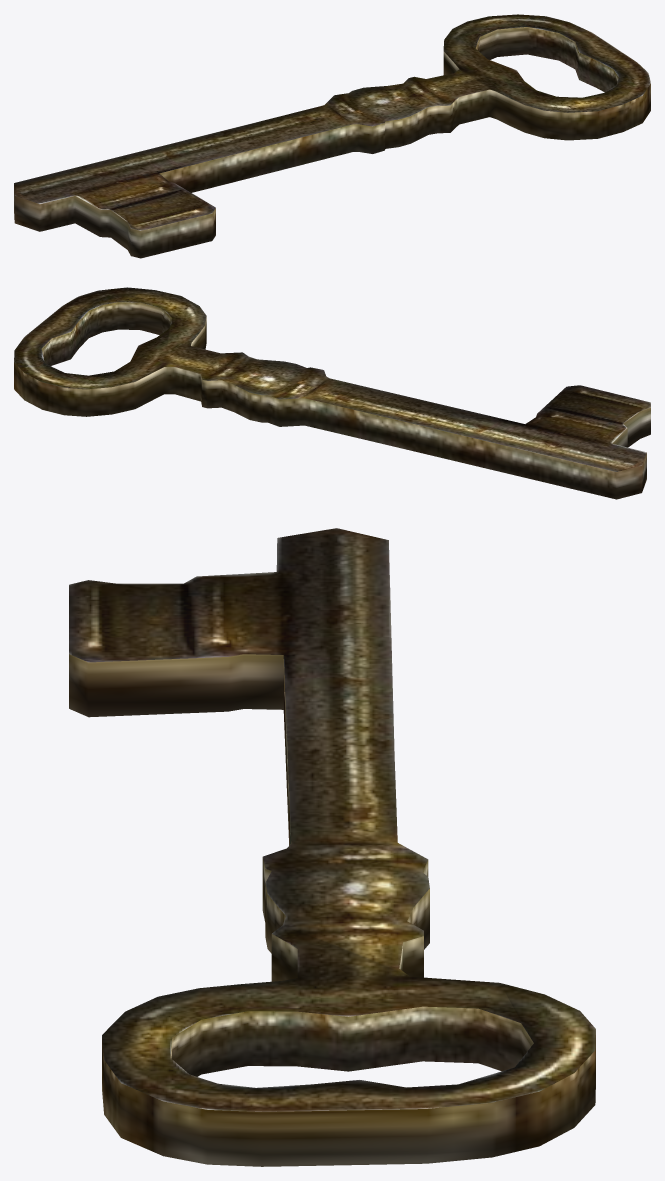
File: scream_jam_key.glb
The picture shows the model from 3 angles, top to bottom: view 1: azimuth 30°, elevation 25°; view 2: azimuth 150°, elevation 25°; view 3: azimuth 270°, elevation 25°; orthographic projection. The views are drawn at different scales.
Parts seen in each view (by area): view 1: Vert.003; view 2: Vert.003; view 3: Vert.003.
Part boxes in pixels (x1,y1,x2,y2): Vert.003: (14,14,650,258); Vert.003: (14,287,650,499); Vert.003: (69,528,595,1166).
Bounding box in the file's own units: 0.5385 × 0.0235 × 0.2053.
1 material, 1 textured.
